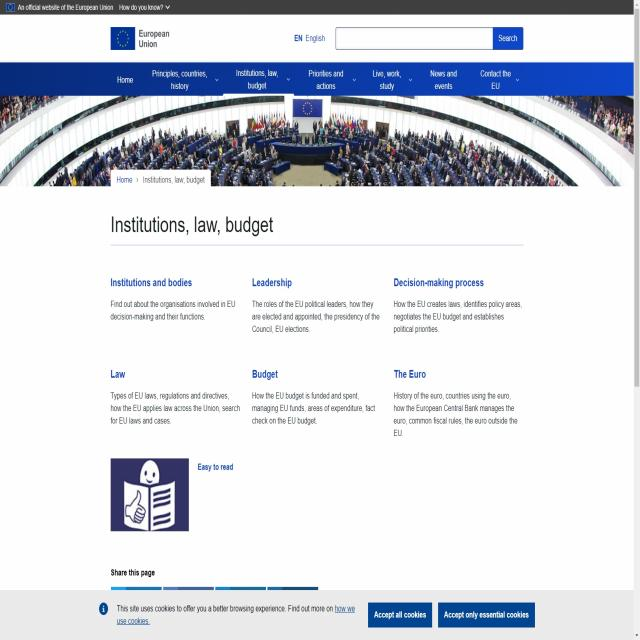menu-bar: (102, 61, 534, 95)
search: (333, 22, 526, 52)
